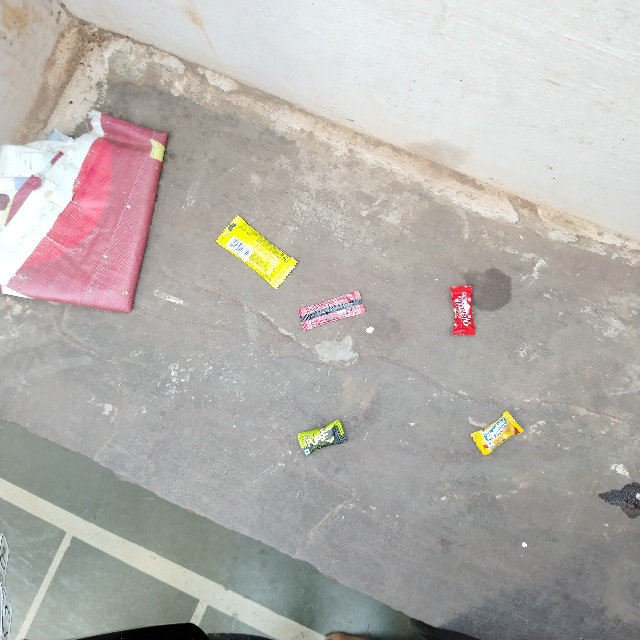Alpenlibe Creamfills: (462, 436, 522, 471)
Mazelo: (446, 283, 478, 338)
Nescafe Coffee: (292, 310, 358, 339)
Orbit: (234, 212, 316, 252)
Pulse: (290, 435, 347, 462)
